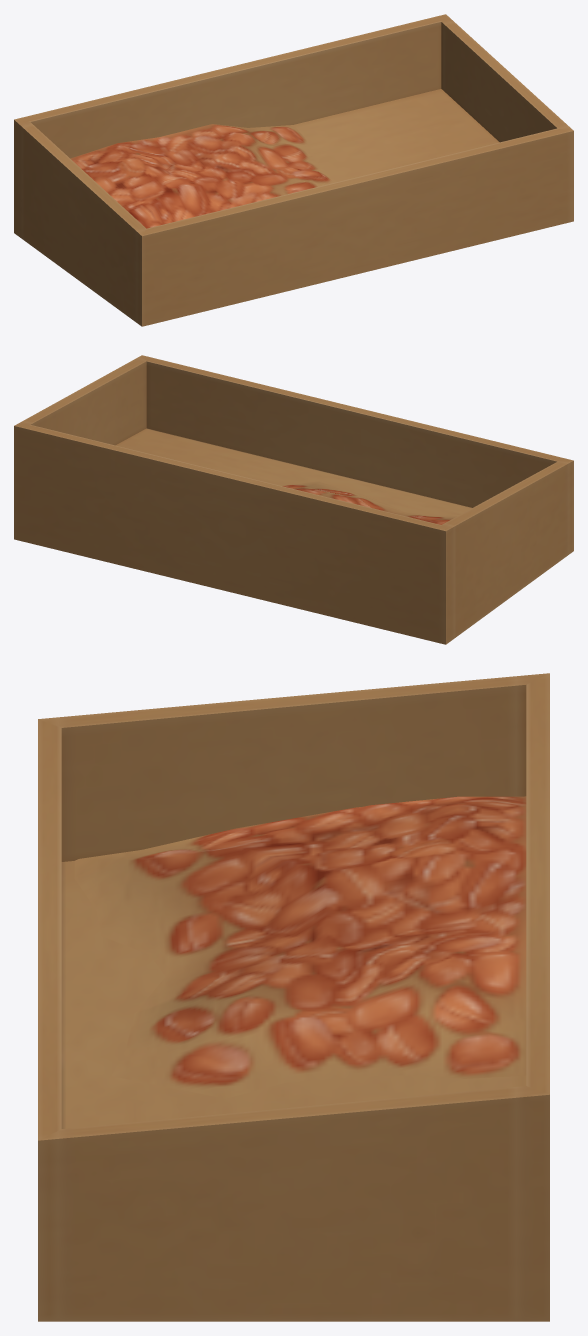
Rendered from jsf_CastellaTray_01.fbx.
3 views of the same model, one above another, from view 1: azimuth 30°, elevation 25°; view 2: azimuth 150°, elevation 25°; view 3: azimuth 270°, elevation 25° (orthographic). The views are drawn at different scales.
Visible parts, largest first — view 1: jsf_CastellaTray_01; view 2: jsf_CastellaTray_01; view 3: jsf_CastellaTray_01.
Part boxes in pixels (<box>): jsf_CastellaTray_01: <box>14,14,573,326</box>; jsf_CastellaTray_01: <box>14,355,573,644</box>; jsf_CastellaTray_01: <box>38,673,549,1321</box>.
Size of the model in its own units: 75.23 by 18.89 by 38.63.
